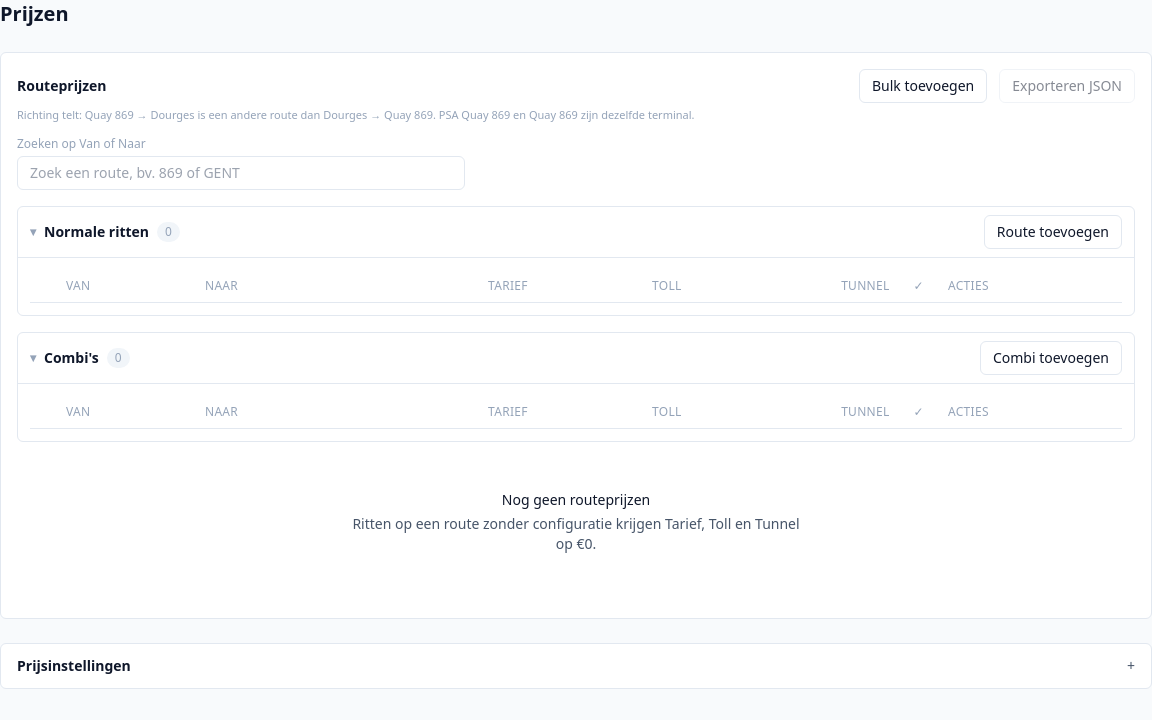
it: opening the bulk import › opens a dialog with an editor
The width and height of the screenshot is (1152, 720).
Click the button "Bulk toevoegen" at (923, 86), box top-left (859, 69), bottom-right (987, 103)
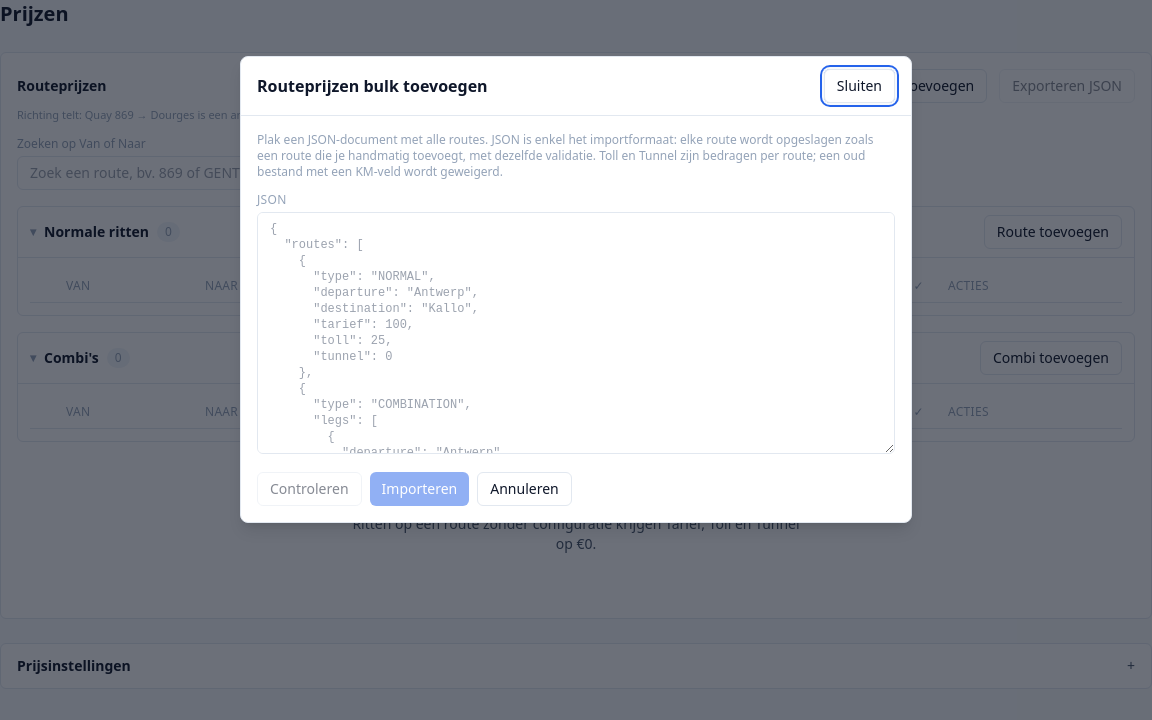
Result: the text box labelled "JSON" is shown at top-left (257, 212), bottom-right (895, 454)
